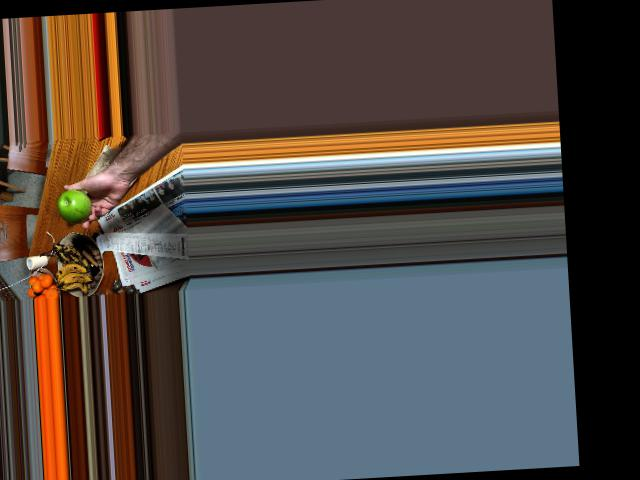apple: (53, 184, 95, 225)
